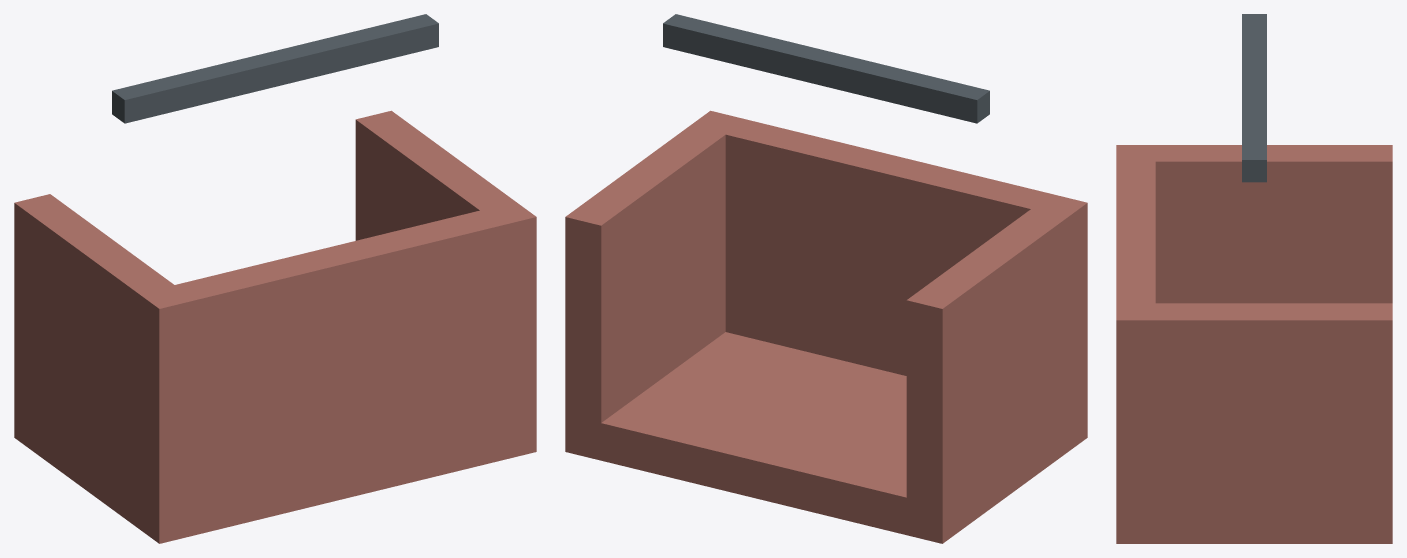
Rendered from shopping_basket.glb.
3 views of the same model, side by side, from view 1: azimuth 30°, elevation 25°; view 2: azimuth 150°, elevation 25°; view 3: azimuth 270°, elevation 25° (orthographic). The views are drawn at different scales.
Parts seen in each view (by area): view 1: body, handle; view 2: body, handle; view 3: body, handle.
Boxes of the visible parts, x1,y1,x2,y2 form: body: (14, 110, 536, 543); handle: (112, 14, 438, 123); body: (565, 110, 1087, 543); handle: (663, 14, 989, 123); body: (1116, 145, 1392, 543); handle: (1242, 14, 1266, 182).
Bounding box in the file's own units: 0.42 × 0.4125 × 0.28.
